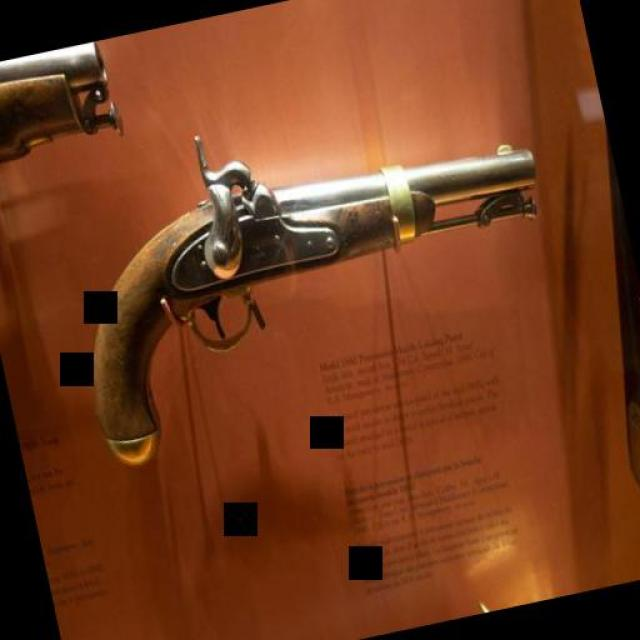gun: (40, 64, 576, 474)
